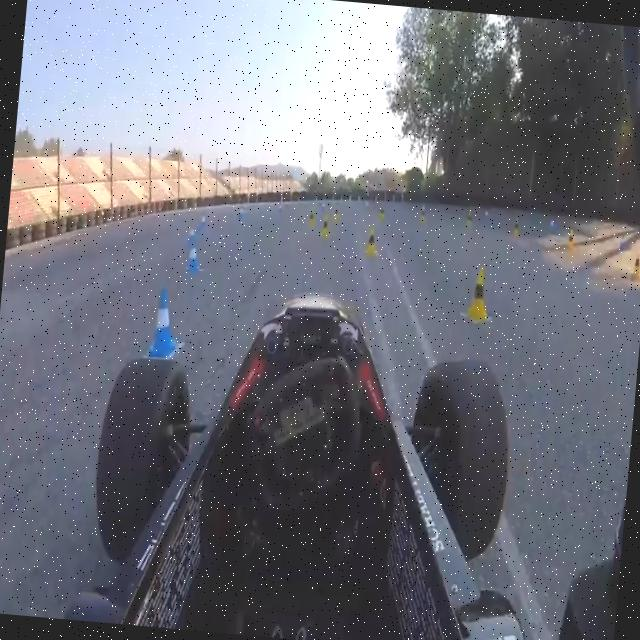blue_cone: (142, 286, 182, 361), (182, 237, 200, 274), (184, 224, 197, 250), (198, 211, 210, 237), (237, 204, 244, 223), (276, 200, 282, 214)
yellow_cone: (458, 264, 490, 323), (364, 226, 378, 258), (628, 250, 640, 283), (319, 214, 331, 239), (464, 208, 476, 231), (566, 228, 576, 251), (332, 204, 342, 224), (418, 208, 428, 228), (511, 220, 521, 240), (308, 210, 316, 228)
